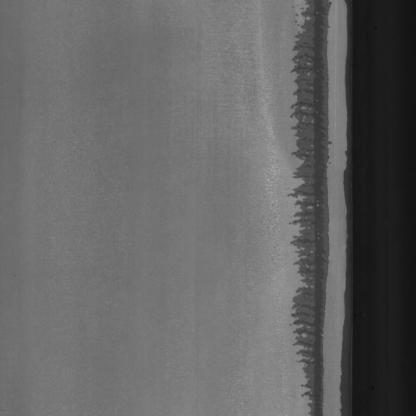oil_spot: (273, 3, 335, 411)
